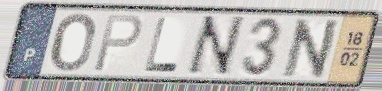3: (240, 16, 285, 79)
L: (142, 15, 182, 74)
N: (182, 14, 248, 78), (280, 17, 343, 80)
O: (49, 11, 97, 74)
P: (90, 13, 145, 74)
